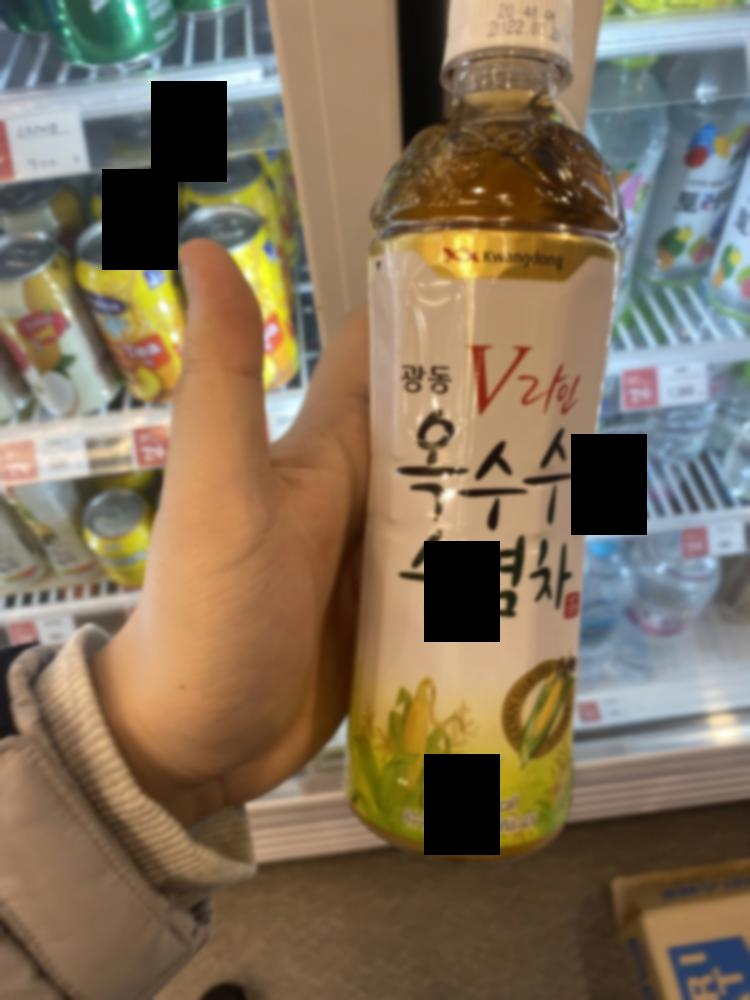oksususuyeomcha: (356, 0, 601, 852)
